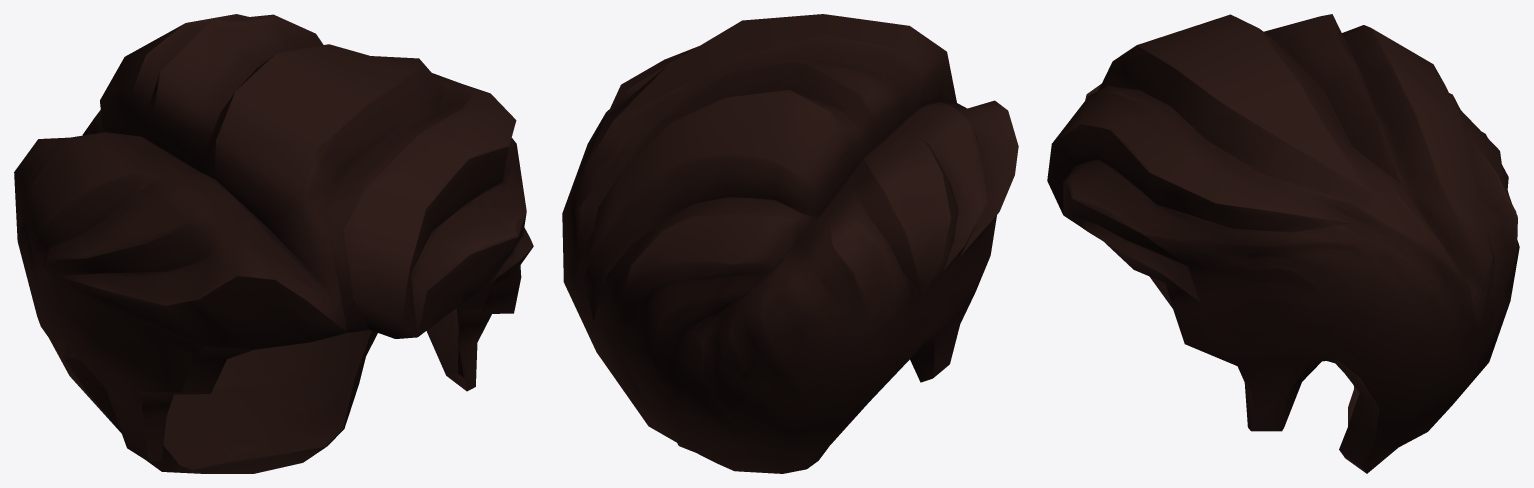
Rendered from male_hair.glb.
3 renders of one model, left to right at view 1: azimuth 30°, elevation 25°; view 2: azimuth 150°, elevation 25°; view 3: azimuth 270°, elevation 25°, orthographic. The views are drawn at different scales.
Visible parts, largest first — view 1: male_hair; view 2: male_hair; view 3: male_hair.
Part boxes in pixels (x1,y1,x2,y2): male_hair: (14,14,533,473); male_hair: (562,14,1018,473); male_hair: (1047,14,1519,473).
Bounding box in the file's own units: 0.0126 × 0.0131 × 0.0138.
1 material, 1 textured.
